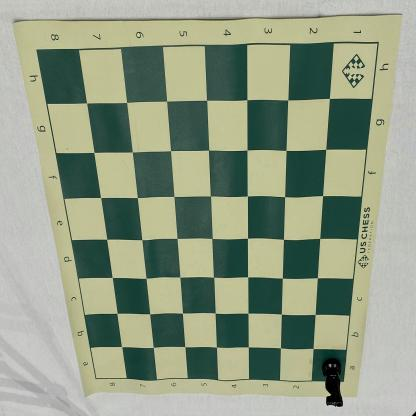black-knight: (320, 358, 344, 408)
